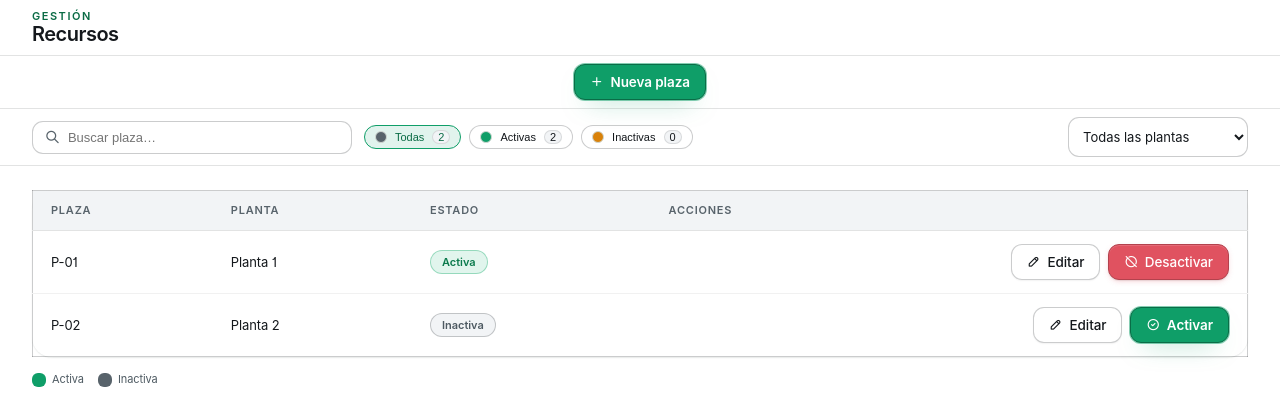
Test case: ParkingSpacesPage › should_request_floor_param_when_selecting_a_floor
The width and height of the screenshot is (1280, 404).
Check: the text "P-01" is shown, box [32,230,213,294]
Select "Planta 2" in the dropdown named "Filtrar por planta". click: (1158, 137)
box: [1068,117,1248,157]
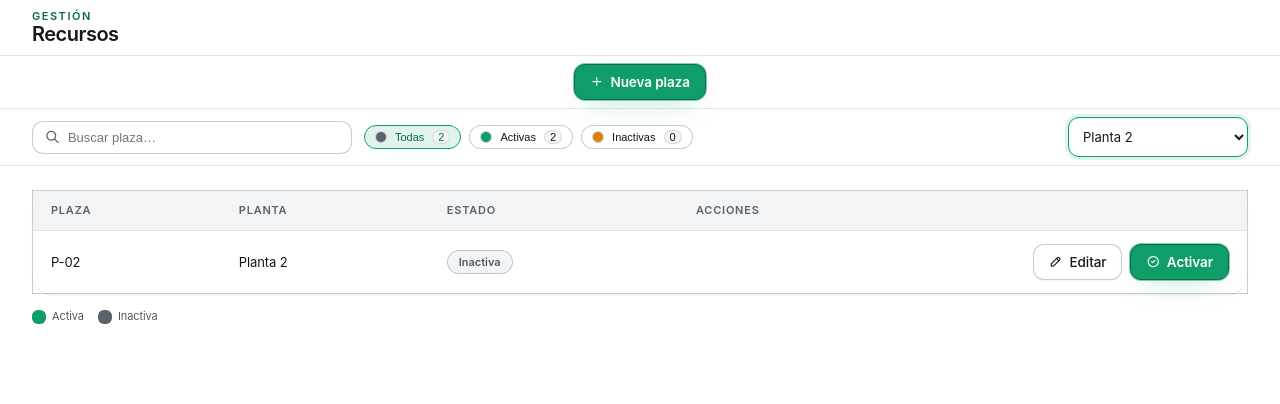
Check: the text "P-02" is shown, box [32,230,221,294]
Check: the text "P-01" is gone
